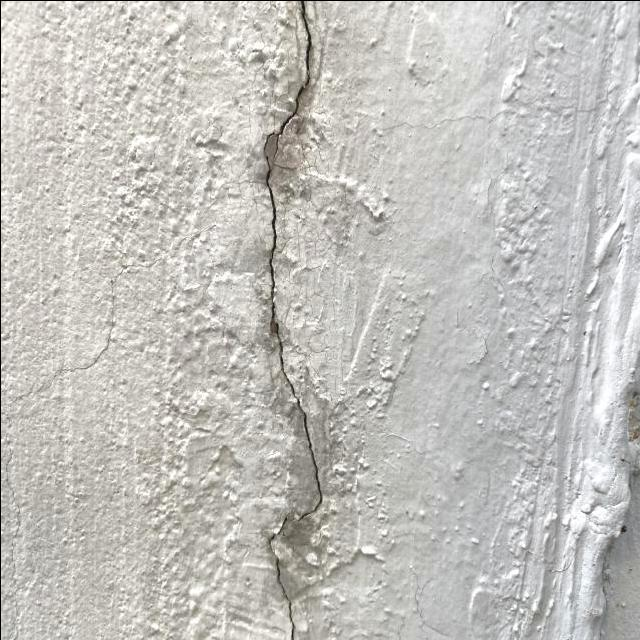SurfaceCrack: (220, 0, 376, 640)
